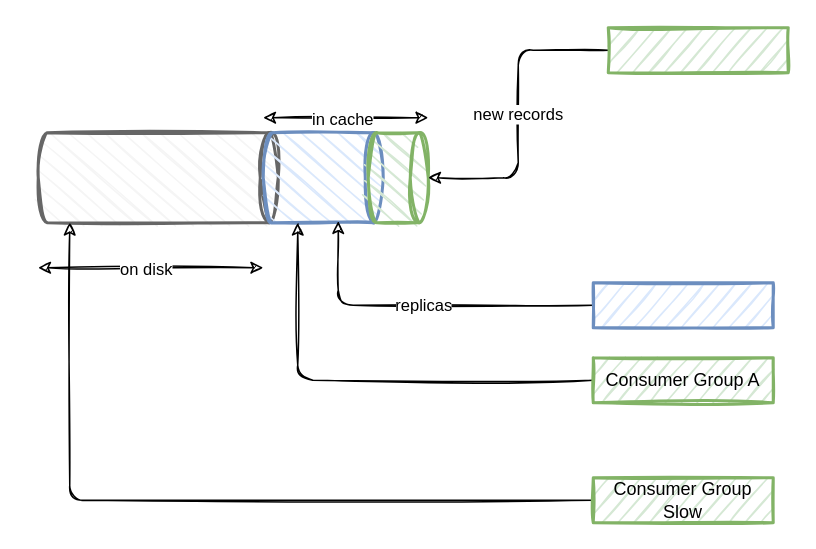
This 816x549 diagram has some shape labels left out. Each missing label, with the box of its shape:
Broker: (591, 280, 774, 328)
Producer: (606, 26, 789, 74)
